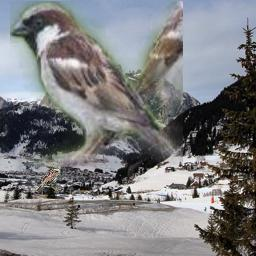Sparrow: (10, 1, 183, 167), (34, 162, 61, 193)
